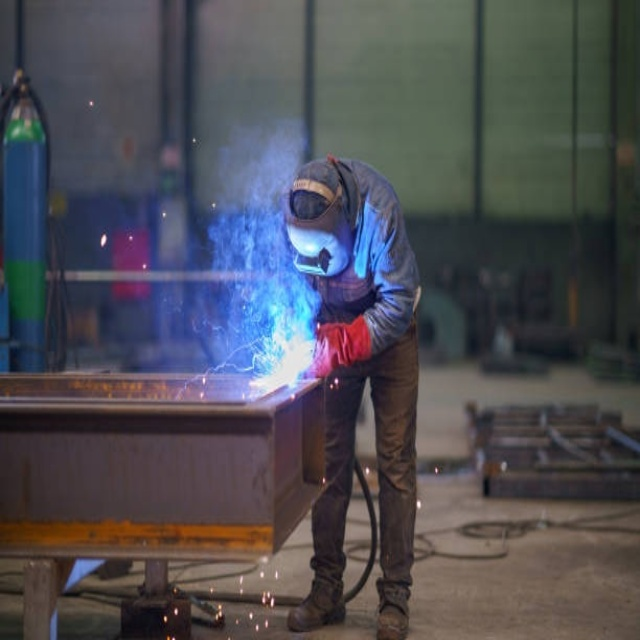Guantes: (312, 314, 372, 374)
